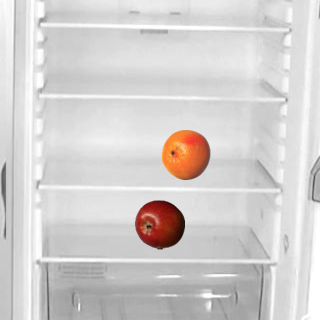Apple Braeburn: (134, 199, 184, 249)
Grapefruit Pink: (160, 129, 210, 179)
